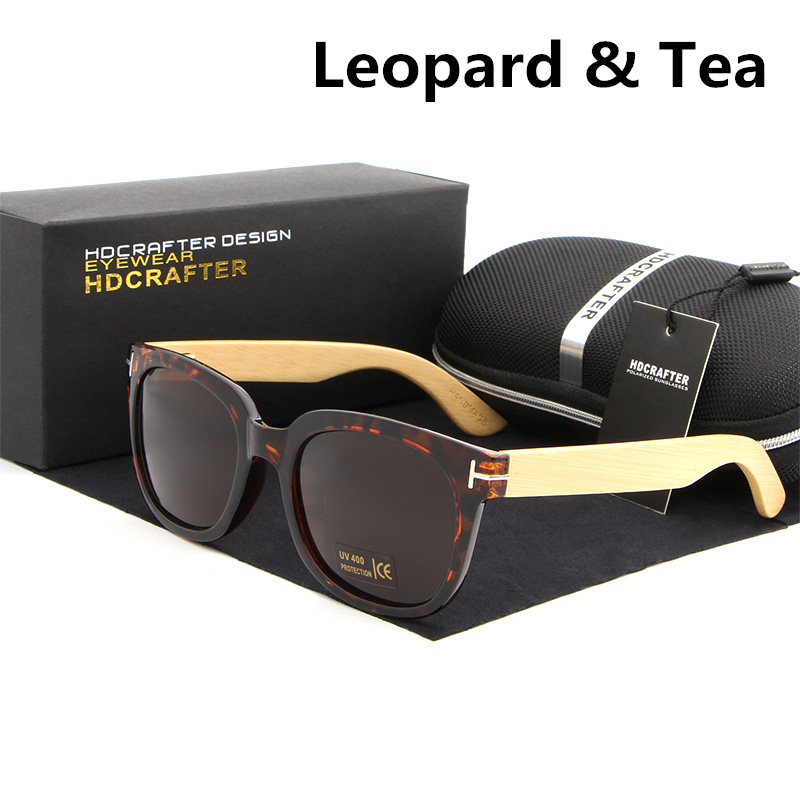sunglasses: (85, 304, 742, 599)
